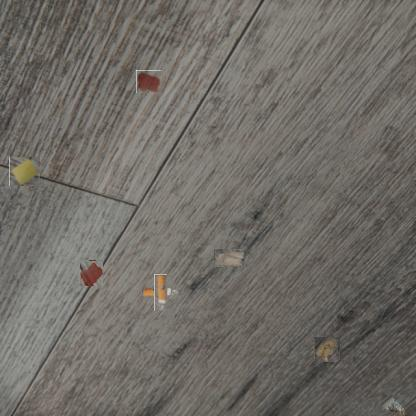dirty: (10, 156, 40, 187), (314, 337, 340, 362), (148, 280, 173, 305), (214, 249, 244, 267), (381, 394, 405, 416)
liquid: (79, 260, 103, 286), (136, 70, 161, 93)
